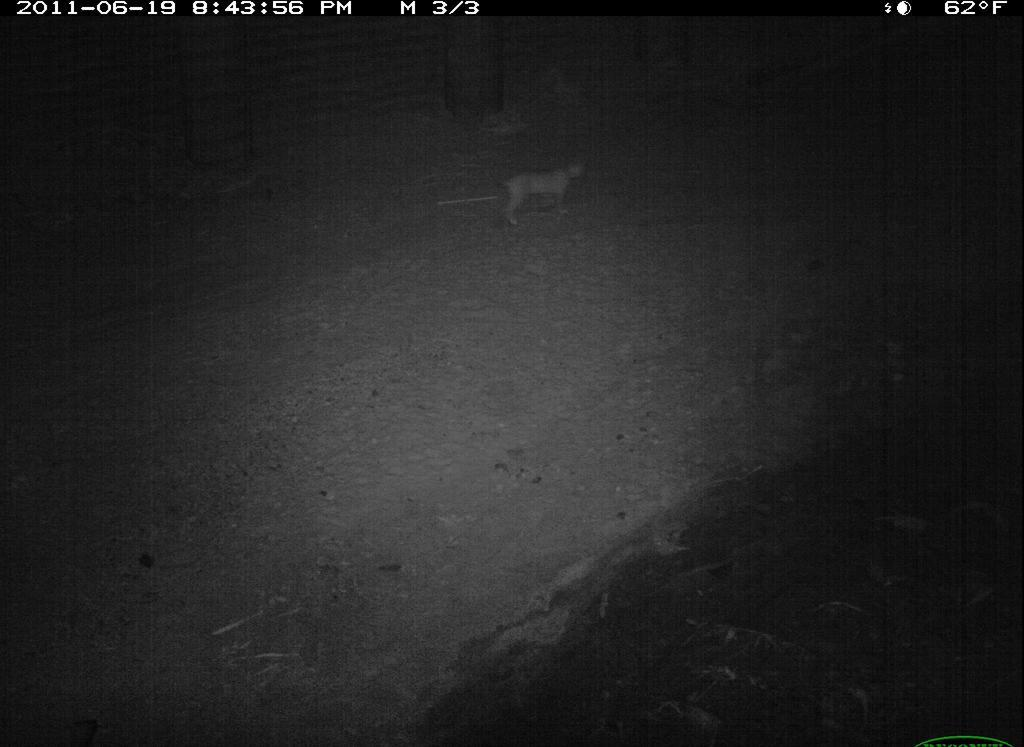bobcat: (487, 150, 596, 231)
